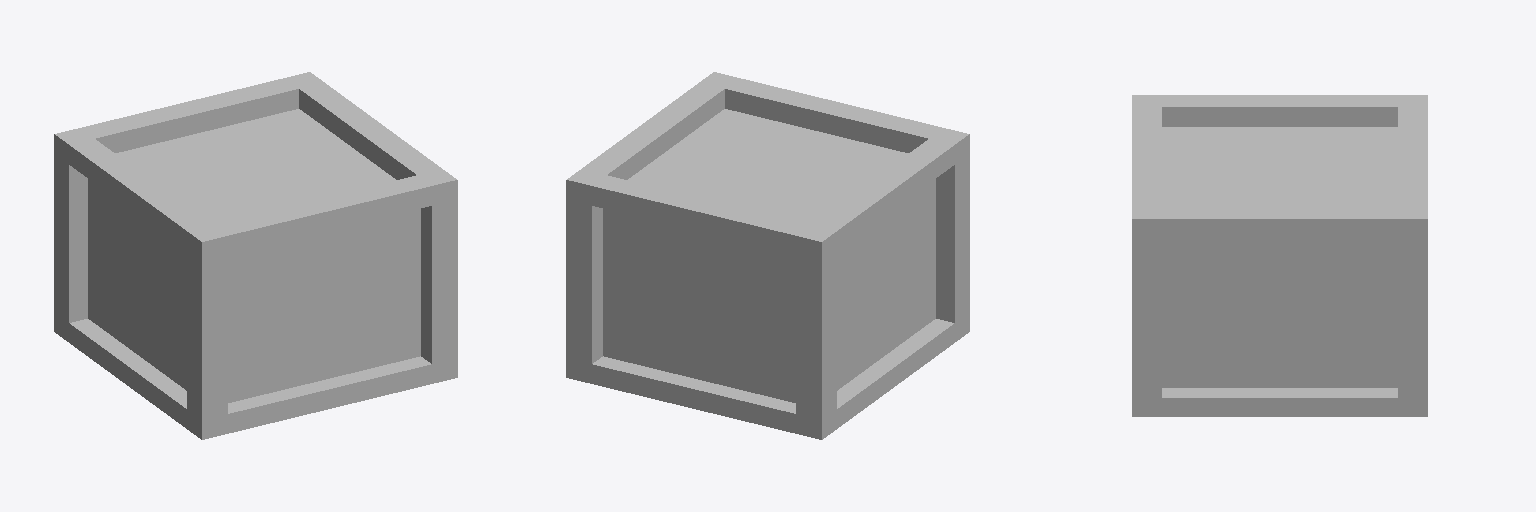
Rendered from LVL3-Cube.obj.
3 views of the same model, side by side, from view 1: azimuth 30°, elevation 25°; view 2: azimuth 150°, elevation 25°; view 3: azimuth 270°, elevation 25° (orthographic).
Visible parts, largest first — view 1: Cube.003_Cube.015; view 2: Cube.003_Cube.015; view 3: Cube.003_Cube.015.
Boxes of the visible parts, <box> form: Cube.003_Cube.015: <box>54,72,457,439</box>; Cube.003_Cube.015: <box>566,72,969,439</box>; Cube.003_Cube.015: <box>1132,95,1427,416</box>.
Bounding box in the file's own units: 4.05 × 3 × 4.05.